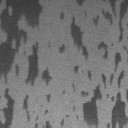red iron: (0, 0, 128, 128), (60, 12, 89, 60), (58, 44, 66, 54), (76, 0, 86, 7), (46, 41, 51, 48)
